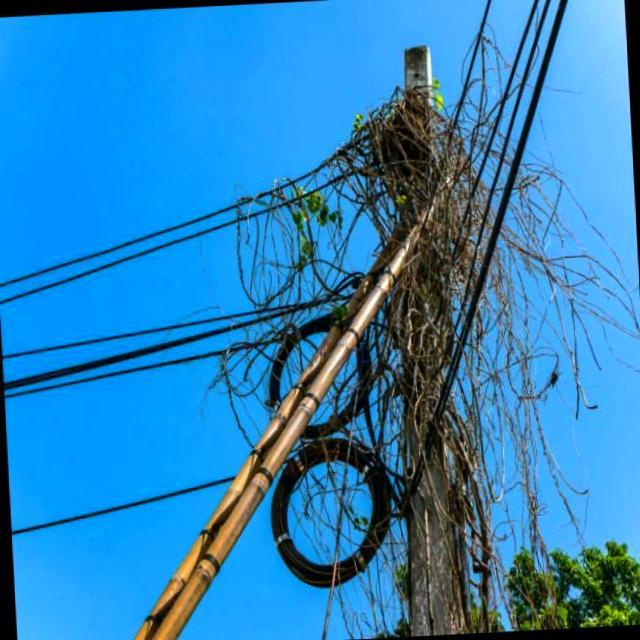critical vegetation: (344, 27, 561, 630)
